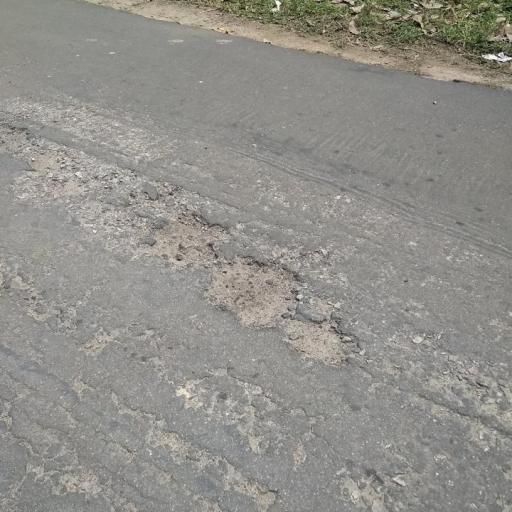pothole: (0, 118, 100, 198), (200, 255, 303, 329), (146, 208, 230, 270), (284, 315, 358, 371)
